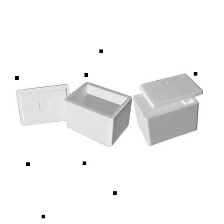foam_box: (132, 68, 205, 148), (61, 78, 131, 149), (12, 79, 74, 129)
